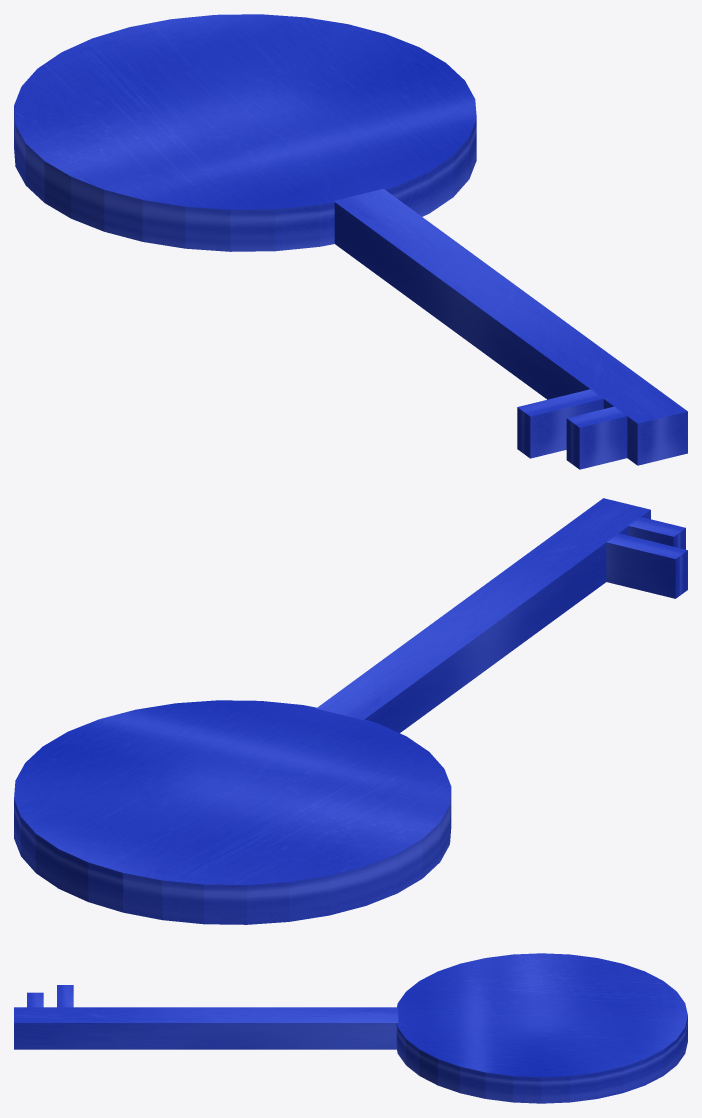
The model's file is blue_key.fbx.
3 renders of one model, top to bottom at view 1: azimuth 30°, elevation 25°; view 2: azimuth 150°, elevation 25°; view 3: azimuth 270°, elevation 25°, orthographic. The views are drawn at different scales.
Parts seen in each view (by area): view 1: Cube; view 2: Cube; view 3: Cube.
Part boxes in pixels (left/top/right/bottom): Cube: left=14, top=14, right=687, bottom=469; Cube: left=14, top=498, right=687, bottom=924; Cube: left=14, top=953, right=687, bottom=1103.
Bounding box in the file's own units: 200 × 20 × 460.
